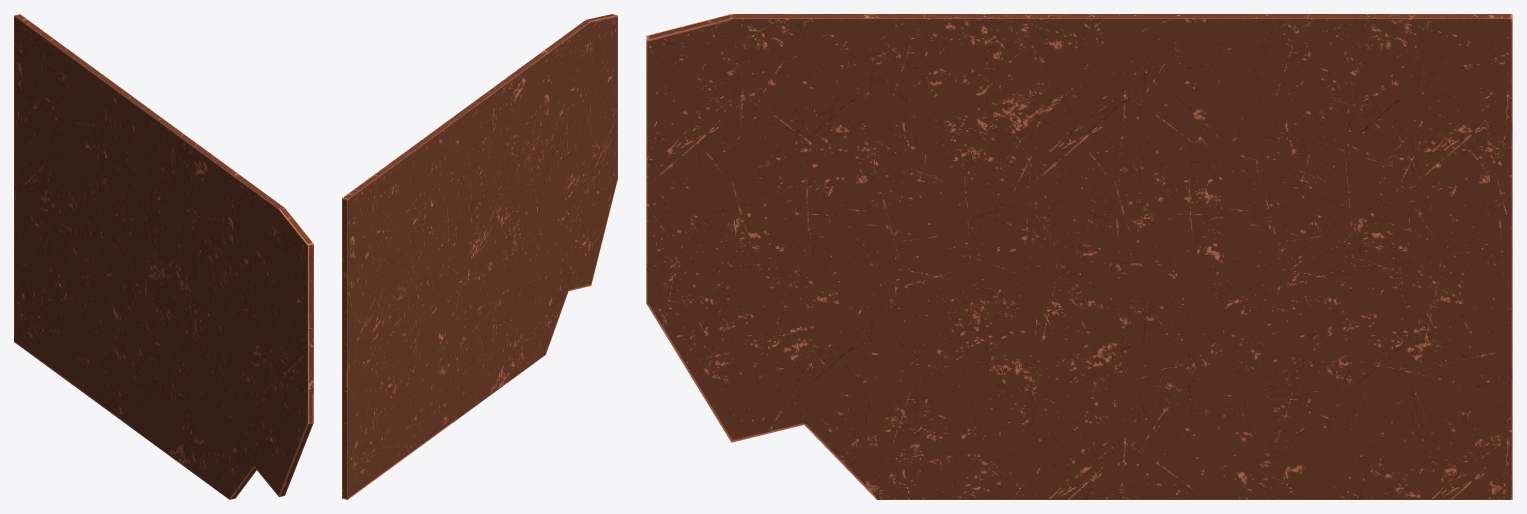
File: B1_Copper.gltf
The picture shows the model from 3 angles, left to right: view 1: azimuth 30°, elevation 25°; view 2: azimuth 150°, elevation 25°; view 3: azimuth 270°, elevation 25°; orthographic projection. The views are drawn at different scales.
Parts seen in each view (by area): view 1: Cube.014; view 2: Cube.014; view 3: Cube.014.
Part boxes in pixels (x1,y1,x2,y2): Cube.014: (14,14,313,499); Cube.014: (342,14,617,499); Cube.014: (646,14,1512,499).
Size of the model in its own units: 0.037 by 1.93 by 3.15.
1 material, 1 textured.
